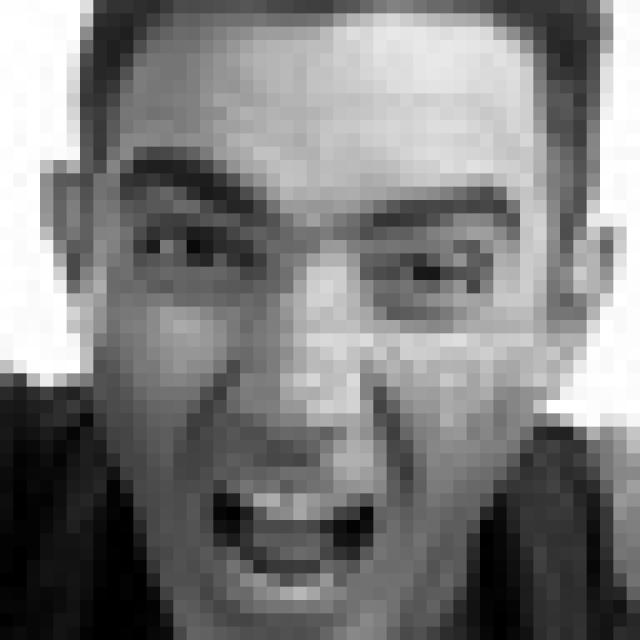angry: (108, 134, 523, 636)
